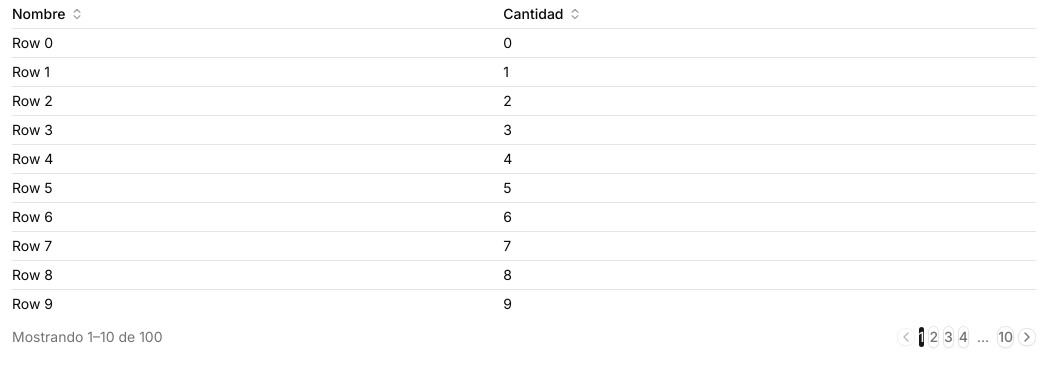
Test case: DataTable › jumps directly to the last page from the truncated pagination
The image size is (1048, 367).
Click the button named "Página 10".
click(1006, 337)  # box [997,326,1014,348]
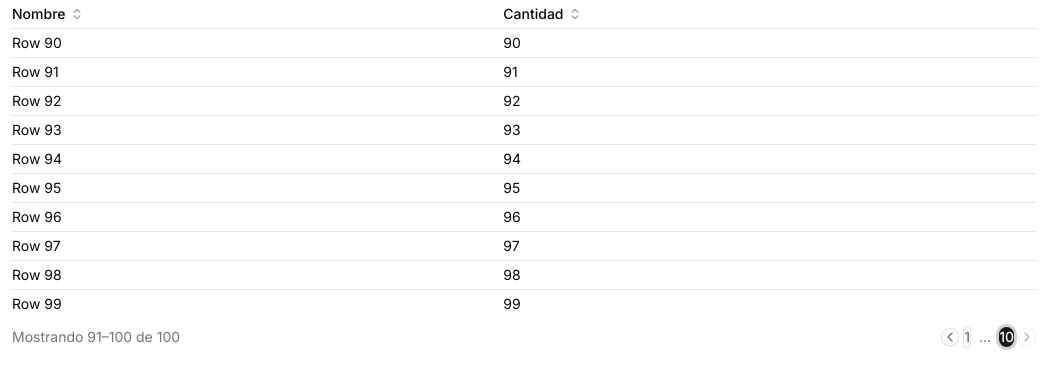
Expected: the text "Row 99" is shown, [12,290,503,318]
